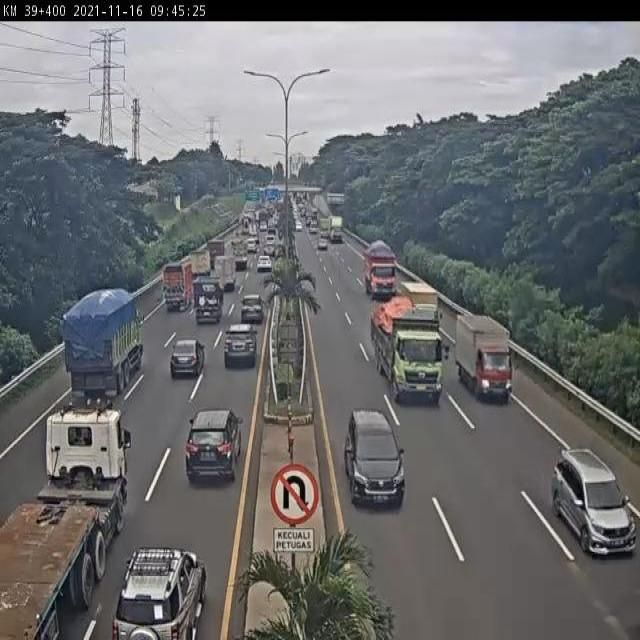car: (550, 453, 640, 558), (113, 546, 207, 640), (349, 409, 407, 511), (183, 412, 247, 487), (223, 323, 259, 365), (169, 339, 204, 381), (238, 295, 265, 324)
small truck: (457, 314, 514, 402), (212, 255, 237, 289), (190, 252, 211, 277)
truck-l-: (64, 290, 146, 394), (372, 303, 446, 400)
truck-m-: (364, 242, 399, 302), (164, 261, 193, 315), (193, 277, 225, 323)
truck-xl-: (0, 400, 128, 640)
